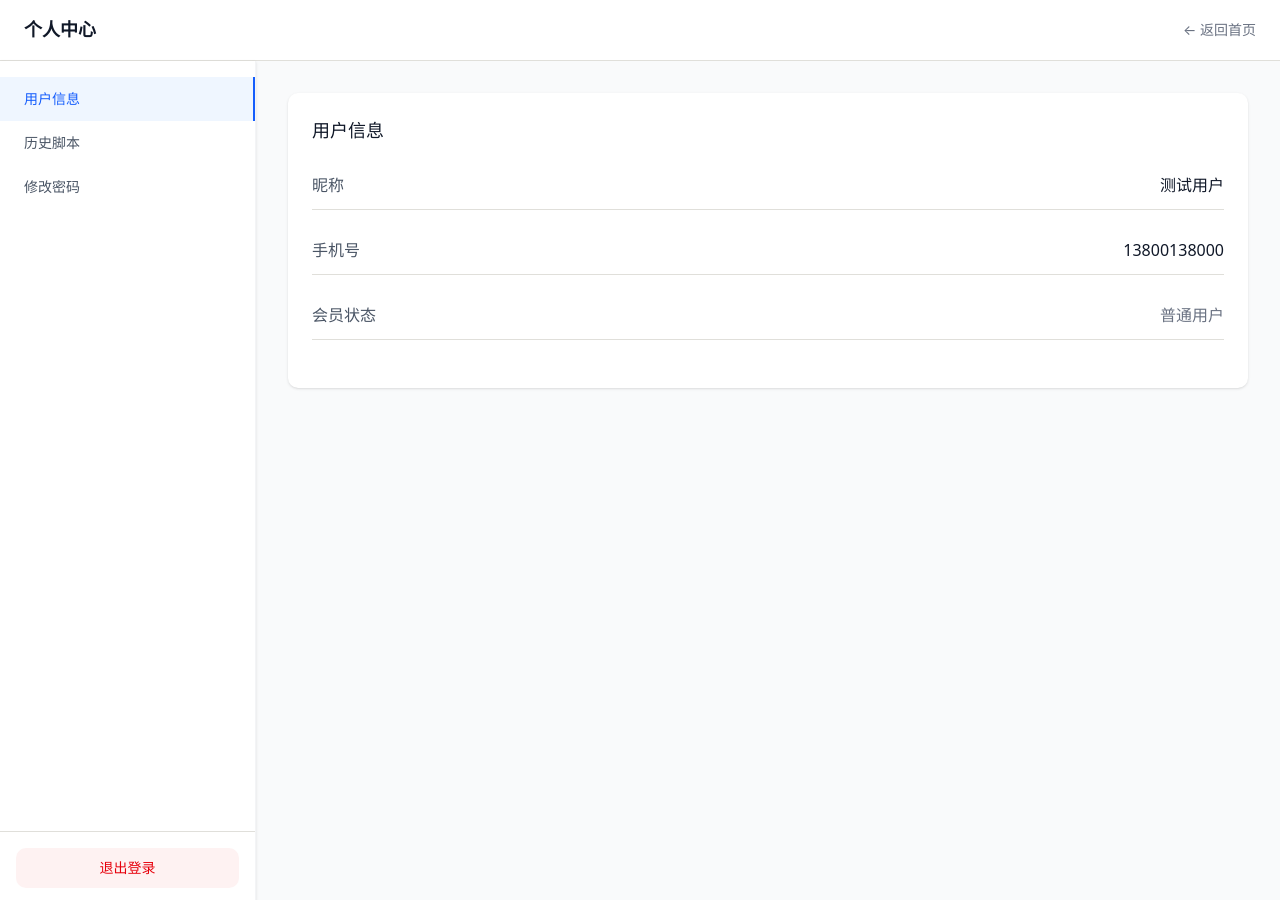
Test: ProfileClient › 修改密码页校验两次密码一致
The width and height of the screenshot is (1280, 900).
Click the text "修改密码" at (52, 186), box [24, 177, 80, 196]
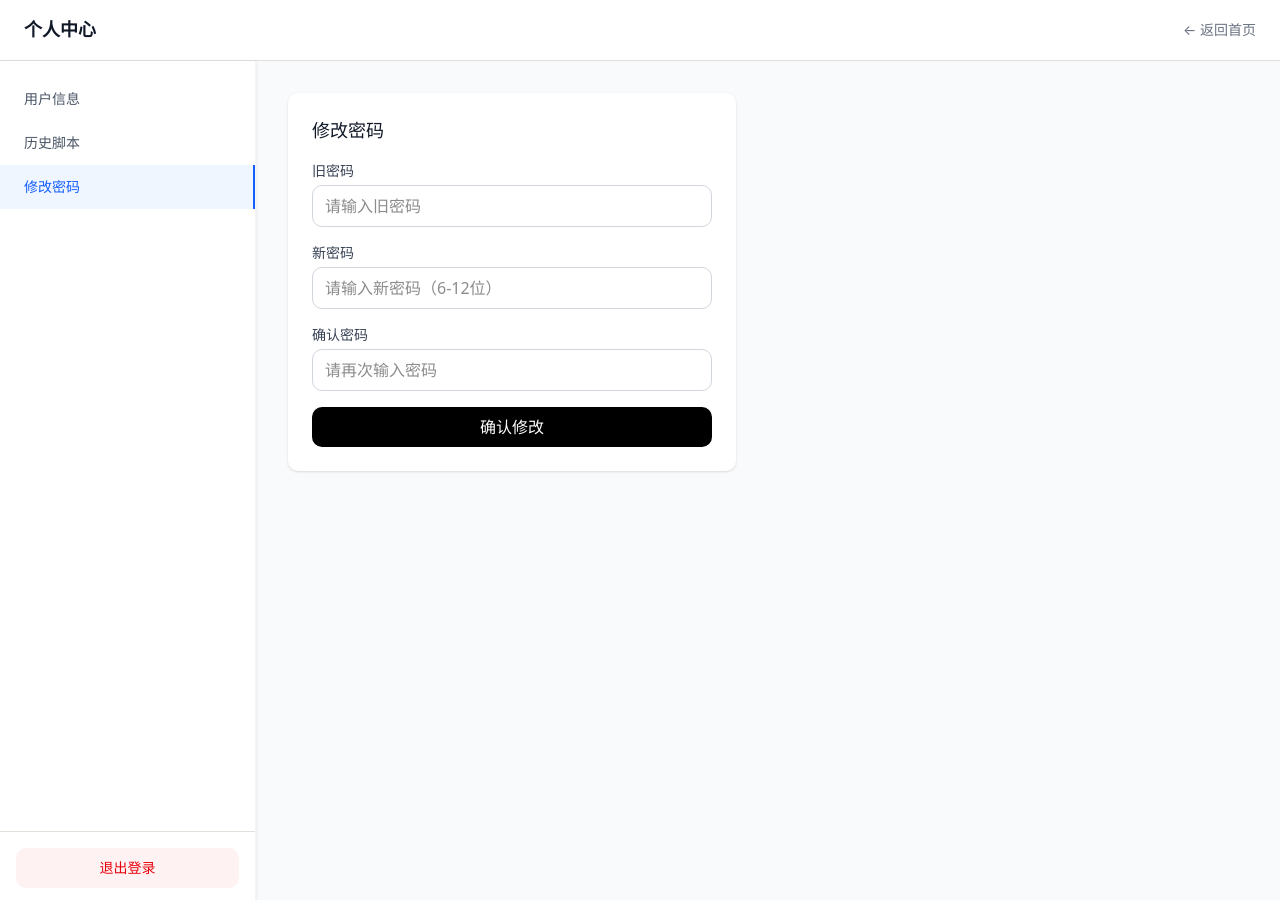
Type "123456" into the password field with placeholder "请输入旧密码" at (512, 206), box [312, 185, 712, 227]
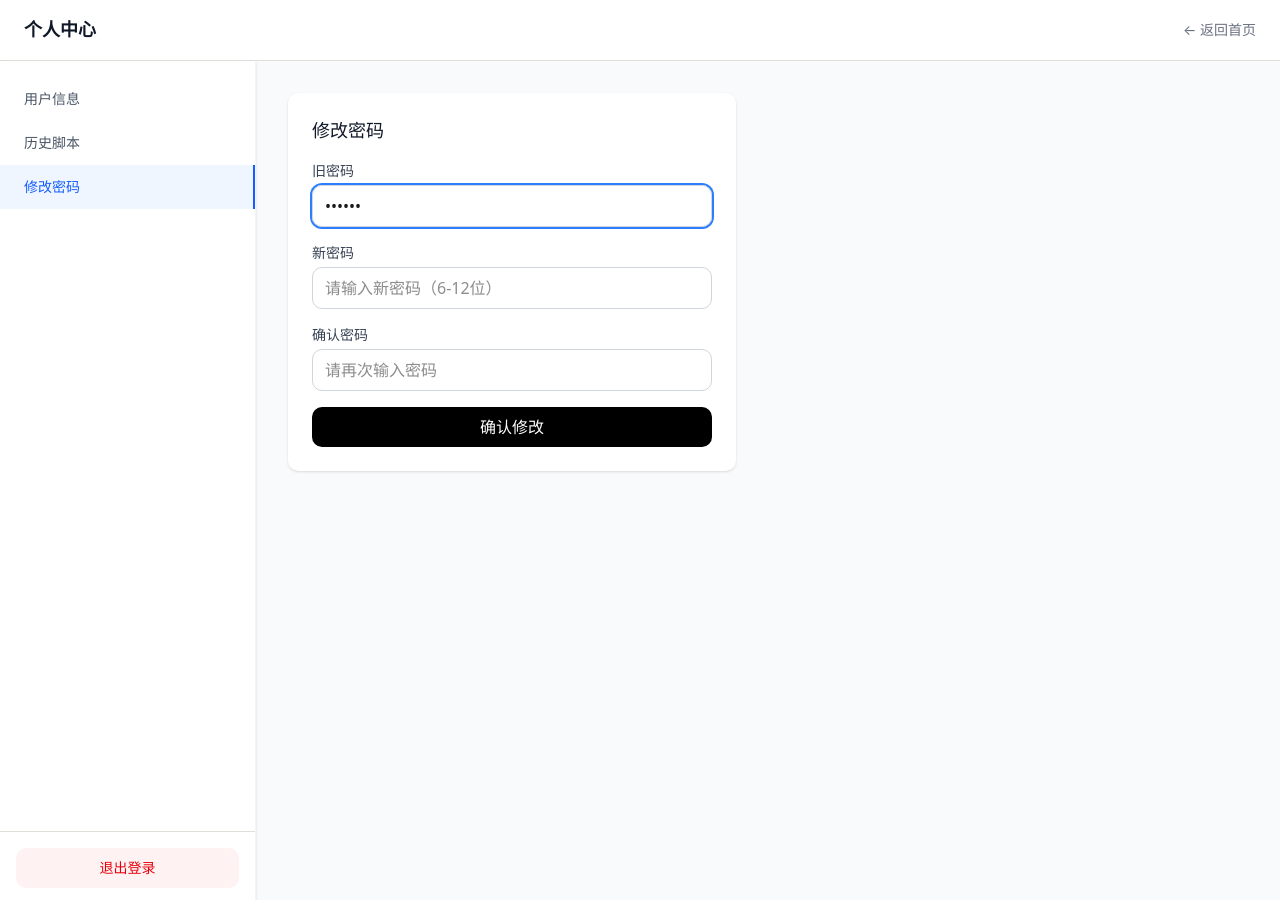
Type "654321" into the password field with placeholder "请输入新密码（6-12位）" at (512, 288), box [312, 267, 712, 309]
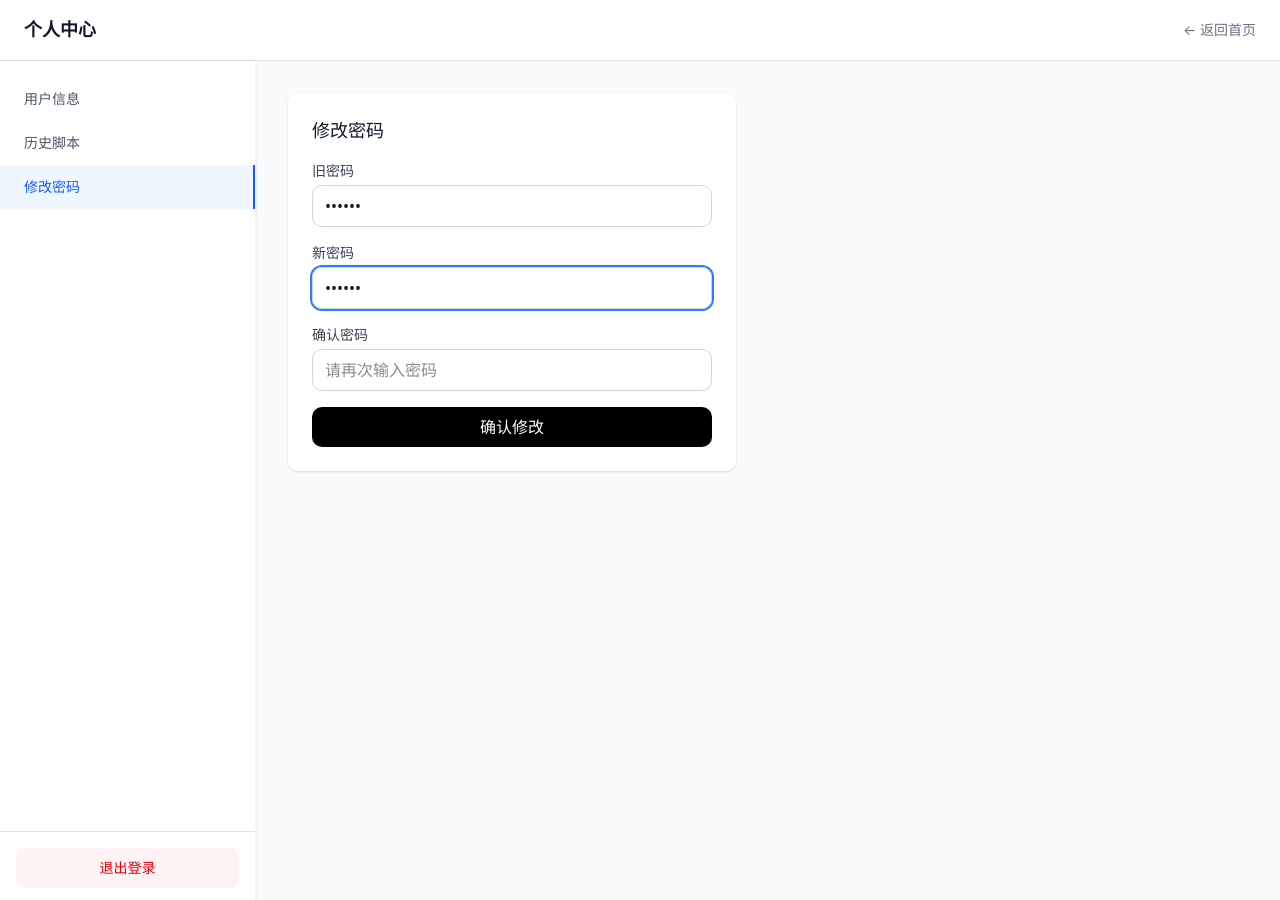
Type "111111" into the password field with placeholder "请再次输入密码" at (512, 370), box [312, 349, 712, 391]
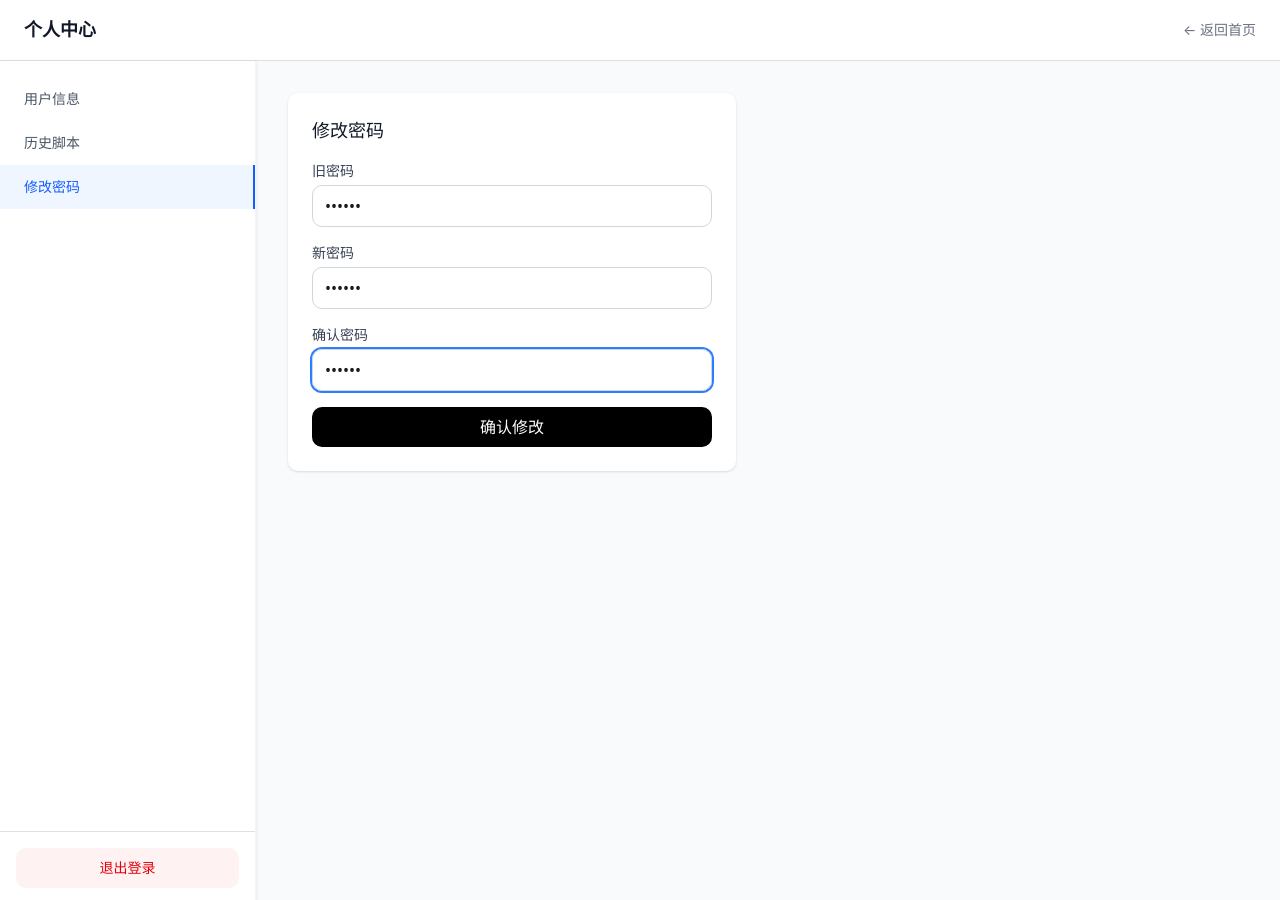
Click the button "确认修改" at (512, 427), box [312, 407, 712, 447]
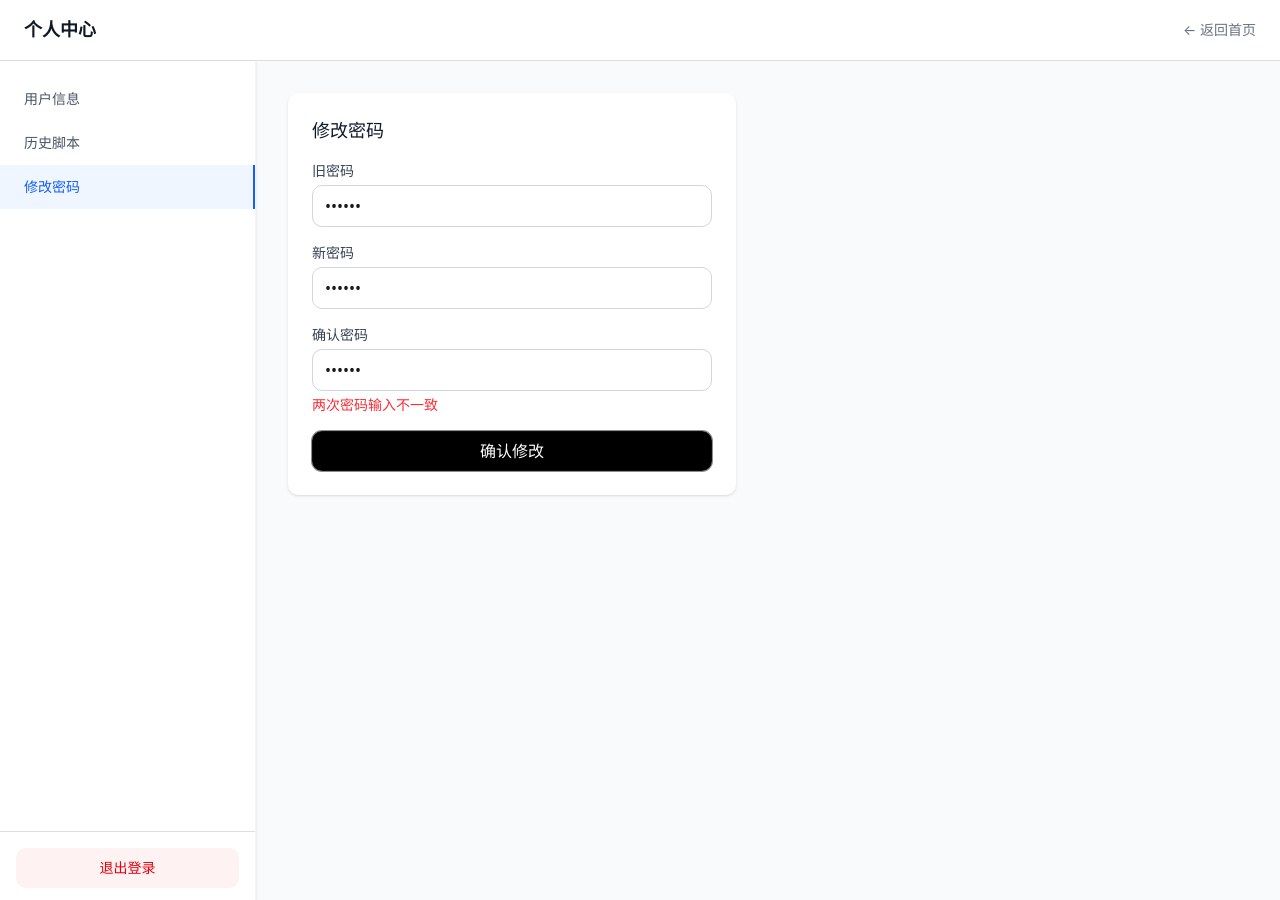
Check: the text "两次密码输入不一致" is shown, box [312, 395, 438, 414]
